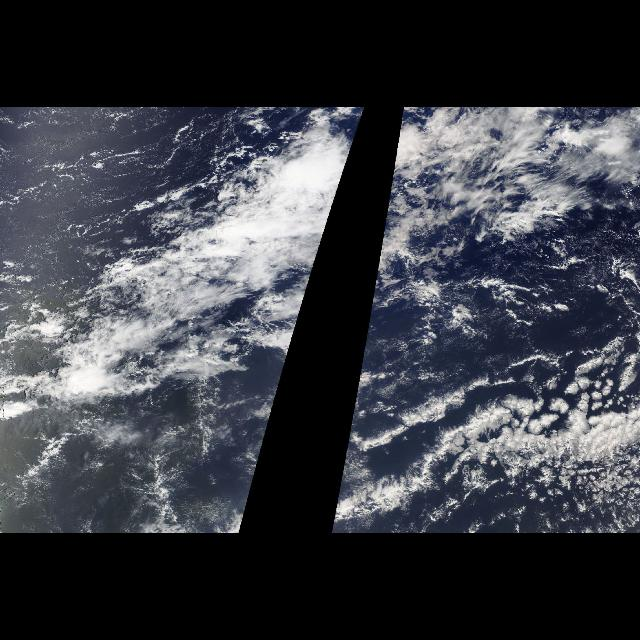Flower: (530, 378, 636, 508)
Sugar: (3, 112, 223, 236)
